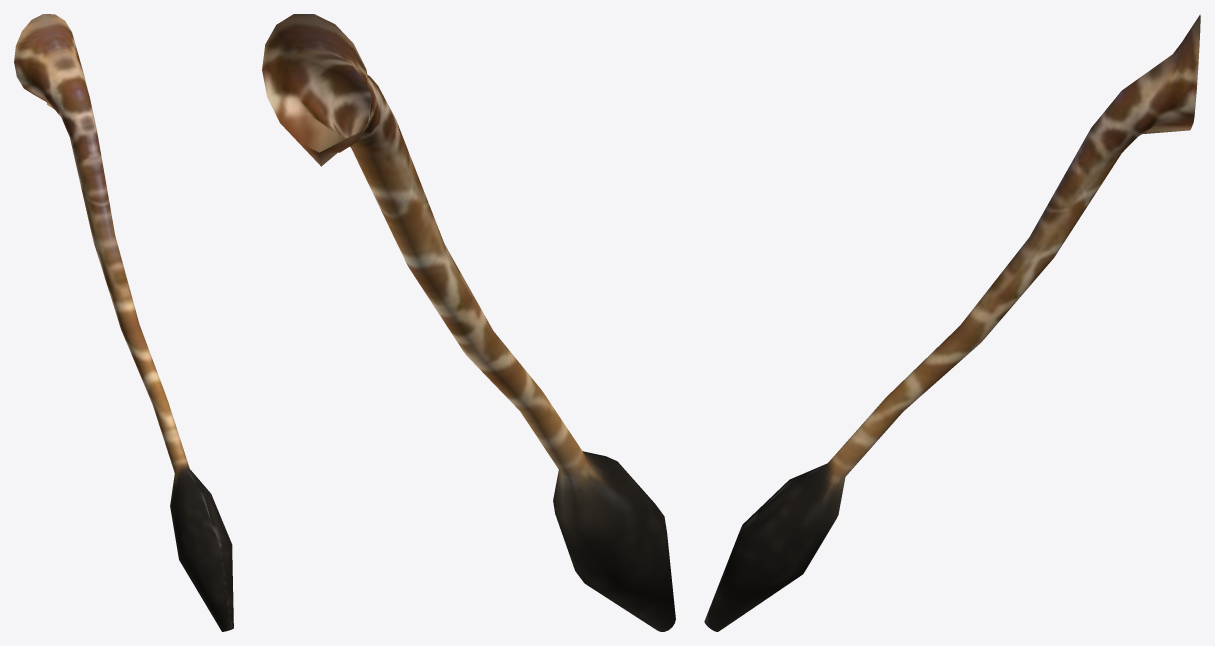
Rendered from j_tail.obj.
3 renders of one model, left to right at view 1: azimuth 30°, elevation 25°; view 2: azimuth 150°, elevation 25°; view 3: azimuth 270°, elevation 25°, orthographic. The views are drawn at different scales.
Visible parts, largest first — view 1: 1.005; view 2: 1.005; view 3: 1.005.
Boxes of the visible parts, box(x1,y1,x2,y2) form: 1.005: box(14, 14, 233, 631); 1.005: box(262, 14, 675, 631); 1.005: box(704, 14, 1200, 631).
Bounding box in the file's own units: 0.3263 × 2.45 × 1.79.
Materials: 1 (1 with a texture image).
